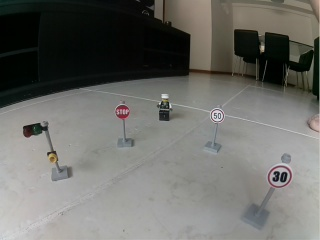Person: (156, 93, 173, 121)
Red Traffic Light: (22, 121, 70, 183)
Speed Limit 30: (266, 164, 293, 189)
Speed Limit 50: (210, 108, 225, 124)
Stop Sign: (115, 104, 130, 119)
